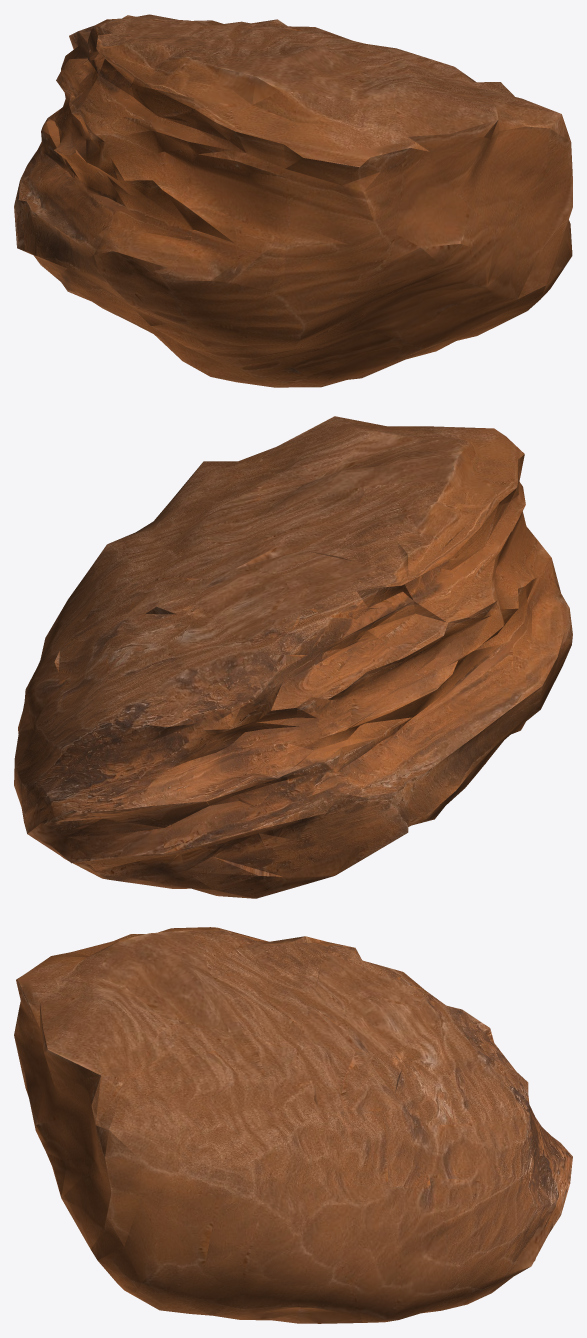
File: de_ventifact_boulder.glb
3 views of the same model, one above another, from view 1: azimuth 30°, elevation 25°; view 2: azimuth 150°, elevation 25°; view 3: azimuth 270°, elevation 25° (orthographic). The views are drawn at different scales.
Parts seen in each view (by area): view 1: mesh; view 2: mesh; view 3: mesh.
Part boxes in pixels (x1,y1,x2,y2): mesh: (14,14,572,387); mesh: (14,416,572,898); mesh: (14,927,572,1323).
Bounding box in the file's own units: 1.58 × 1.05 × 1.91.
1 material, 1 textured.
